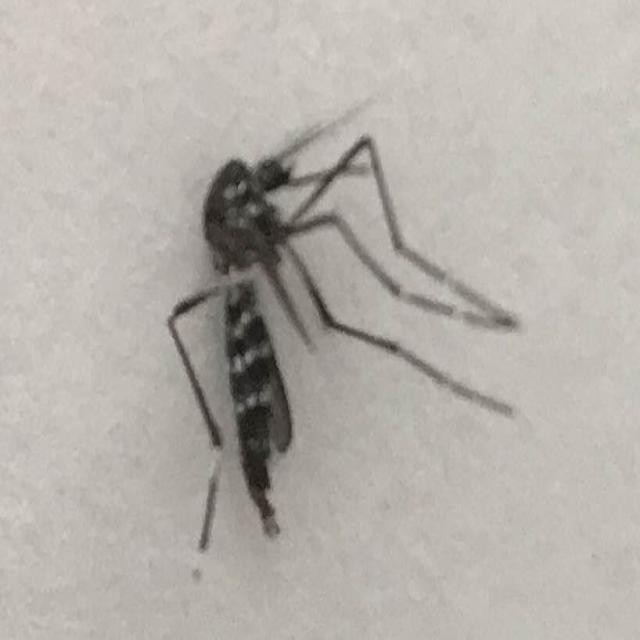albopictus: (157, 92, 522, 440)
